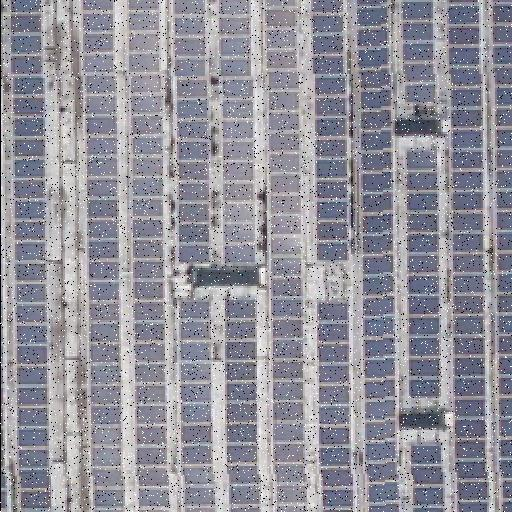solar-panel: (10, 0, 54, 512), (80, 0, 124, 512), (356, 0, 400, 512), (444, 0, 488, 512), (127, 0, 169, 512), (263, 0, 305, 512), (492, 0, 512, 512), (217, 0, 255, 264), (174, 0, 210, 264), (405, 151, 443, 401), (310, 0, 346, 260), (313, 297, 351, 511), (180, 296, 216, 512), (227, 296, 261, 512), (400, 0, 436, 104), (411, 444, 445, 512), (1, 192, 7, 512)
